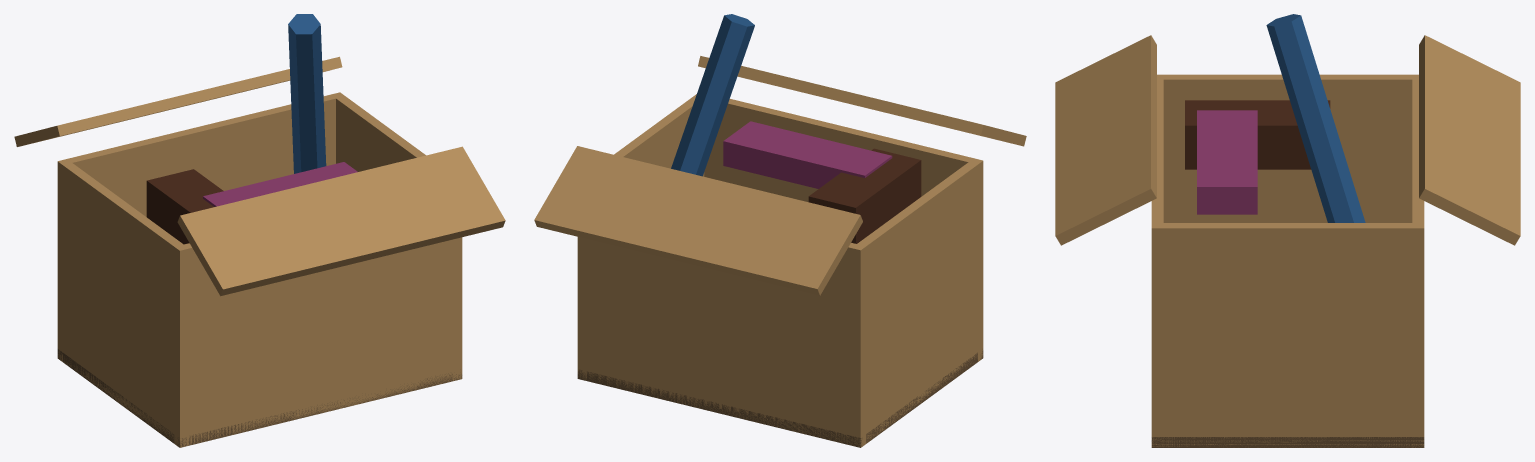
The model's file is lost_found_box.glb.
3 views of the same model, side by side, from view 1: azimuth 30°, elevation 25°; view 2: azimuth 150°, elevation 25°; view 3: azimuth 270°, elevation 25° (orthographic). The views are drawn at different scales.
Parts seen in each view (by area): view 1: side_box_card, flap_box_card, end_box_card, umbrella_lost_umbrella, shoe_lost_shoe, bottom_box_inside, scarf_lost_scarf; view 2: side_box_card, flap_box_card, end_box_card, scarf_lost_scarf, umbrella_lost_umbrella, shoe_lost_shoe, bottom_box_inside; view 3: end_box_card, flap_box_card, umbrella_lost_umbrella, side_box_card, scarf_lost_scarf, shoe_lost_shoe, bottom_box_inside.
Boxes of the visible parts, box(x1,y1,x2,y2) form: side_box_card: box(57, 92, 462, 447); flap_box_card: box(14, 56, 505, 296); end_box_card: box(57, 92, 462, 446); umbrella_lost_umbrella: box(288, 14, 326, 173); shoe_lost_shoe: box(146, 169, 223, 244); bottom_box_inside: box(57, 349, 462, 447); scarf_lost_scarf: box(203, 162, 357, 206); side_box_card: box(577, 94, 983, 447); flap_box_card: box(534, 56, 1026, 295); end_box_card: box(577, 95, 983, 446); scarf_lost_scarf: box(723, 121, 892, 188); umbrella_lost_umbrella: box(671, 14, 754, 176); shoe_lost_shoe: box(808, 148, 921, 243); bottom_box_inside: box(577, 349, 983, 447); end_box_card: box(1151, 74, 1424, 447); flap_box_card: box(1055, 35, 1520, 245); umbrella_lost_umbrella: box(1266, 14, 1365, 222); side_box_card: box(1151, 74, 1424, 447); scarf_lost_scarf: box(1197, 110, 1257, 214); shoe_lost_shoe: box(1185, 100, 1330, 169); bottom_box_inside: box(1151, 437, 1424, 447).
Bounding box in the file's own units: 0.6 × 0.6903 × 0.7676.
